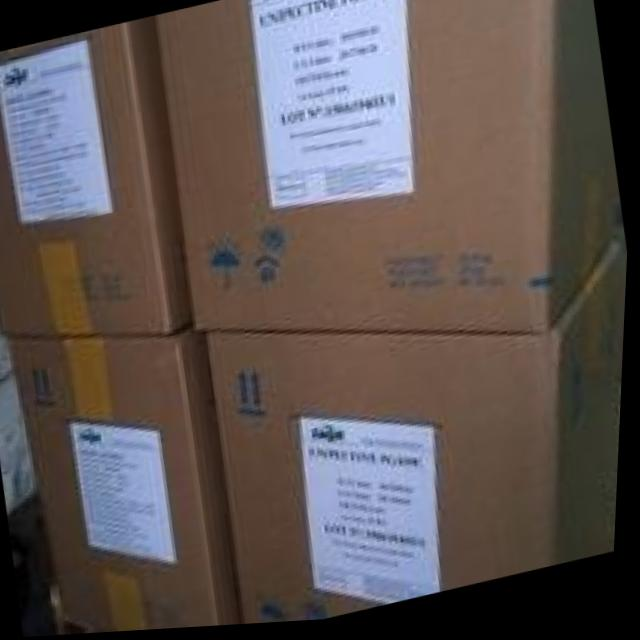box: (155, 0, 616, 340), (209, 249, 622, 627), (10, 326, 251, 633), (0, 20, 200, 337)
